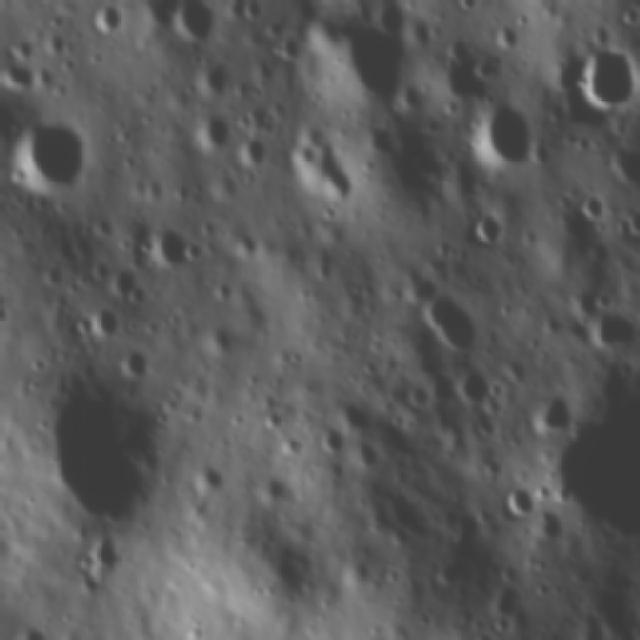crater: (29, 379, 186, 547), (323, 24, 411, 110), (13, 111, 89, 194), (468, 98, 544, 177), (565, 38, 637, 116), (288, 136, 366, 204), (415, 289, 483, 357), (589, 302, 640, 356), (166, 0, 217, 45), (532, 393, 577, 442), (149, 222, 193, 272), (465, 209, 510, 253), (335, 396, 379, 439), (503, 477, 540, 528), (193, 54, 236, 97), (455, 366, 497, 409), (191, 114, 232, 157), (604, 140, 640, 188), (196, 456, 232, 502), (116, 340, 150, 386), (204, 318, 241, 359), (235, 132, 271, 174), (85, 0, 129, 34), (421, 363, 456, 405), (0, 58, 40, 94), (89, 303, 125, 343), (105, 264, 140, 304), (490, 12, 521, 54), (260, 472, 292, 512), (577, 185, 605, 228), (90, 537, 124, 572), (272, 30, 306, 64), (8, 34, 40, 68), (232, 230, 262, 264), (401, 378, 432, 410), (352, 349, 383, 380), (256, 408, 287, 438), (210, 276, 241, 306), (486, 605, 516, 633), (531, 472, 554, 506), (178, 236, 204, 266), (621, 202, 640, 242), (126, 283, 152, 312), (451, 0, 488, 18), (240, 0, 266, 25), (170, 181, 192, 207), (94, 0, 158, 6), (474, 0, 509, 8), (472, 631, 498, 640), (249, 0, 277, 2)
